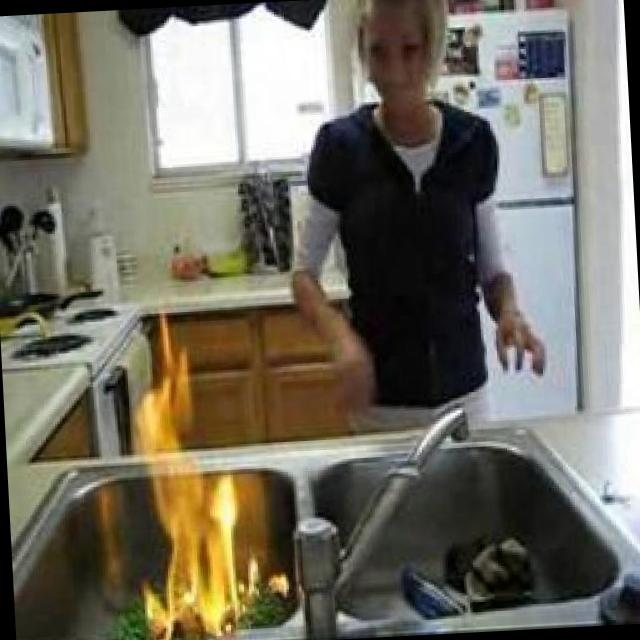Fire: (123, 324, 268, 640)
